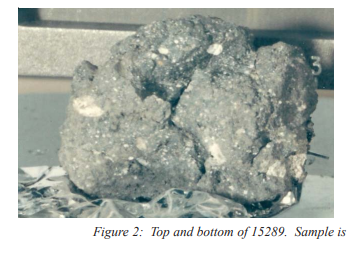Breccia: (59, 12, 300, 203)
